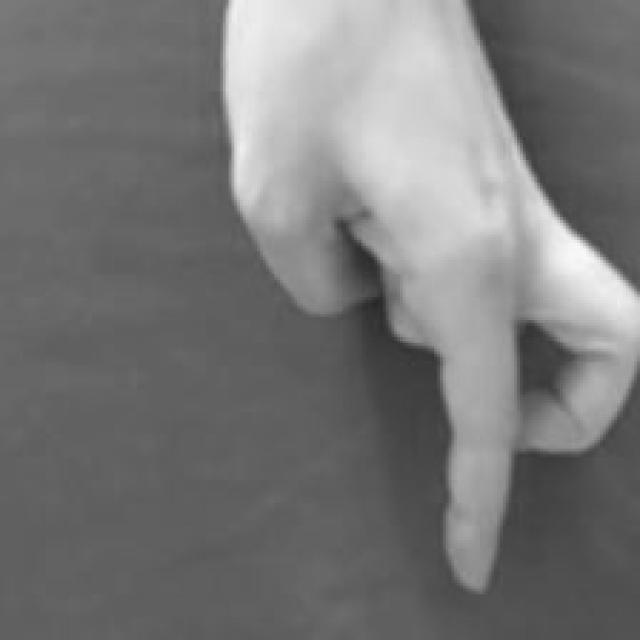P: (222, 2, 640, 599)
